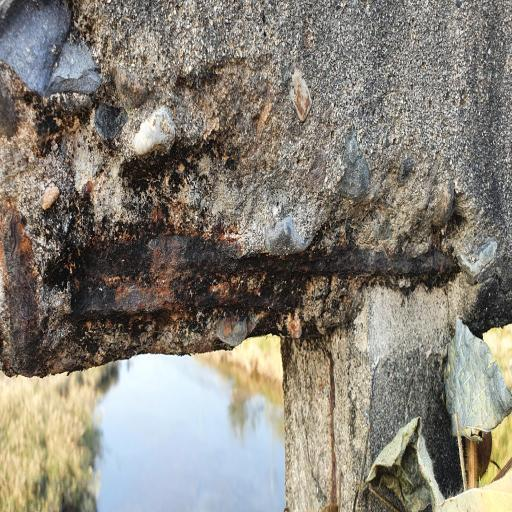exposed_rebar: (52, 235, 456, 320)
spalling: (0, 61, 480, 374)
